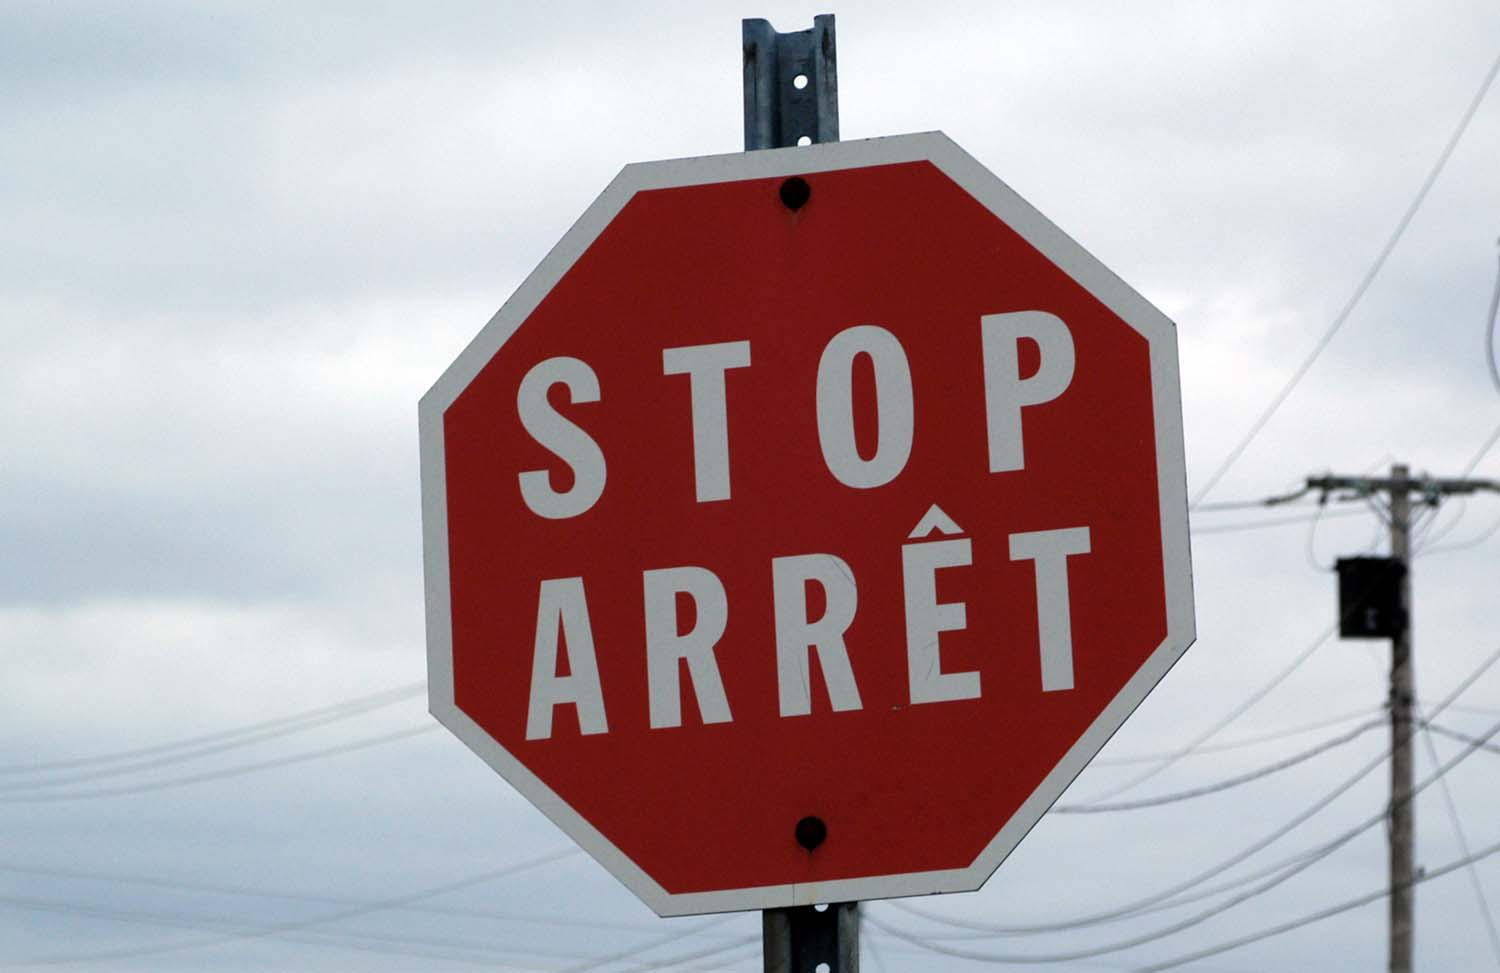stop: (410, 130, 1200, 923)
